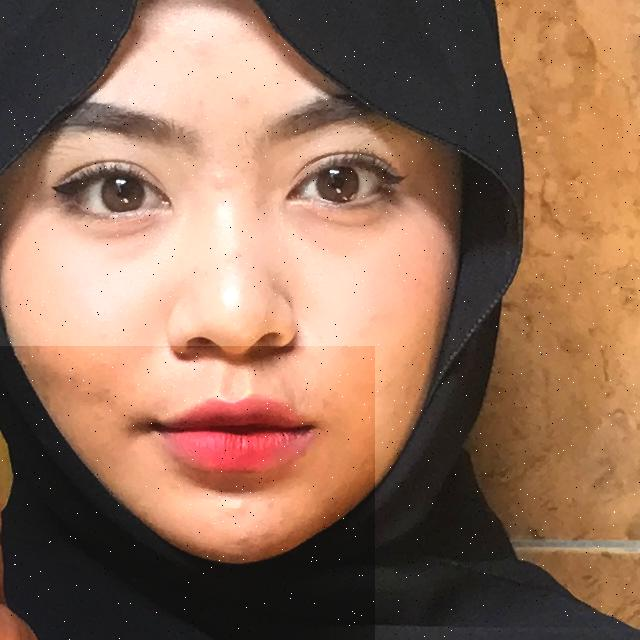kamu: (0, 346, 375, 640)
